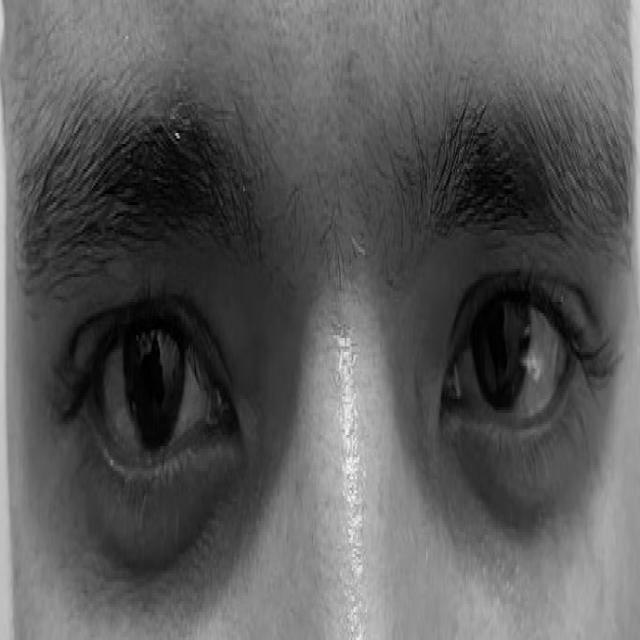real: (44, 148, 618, 574)
